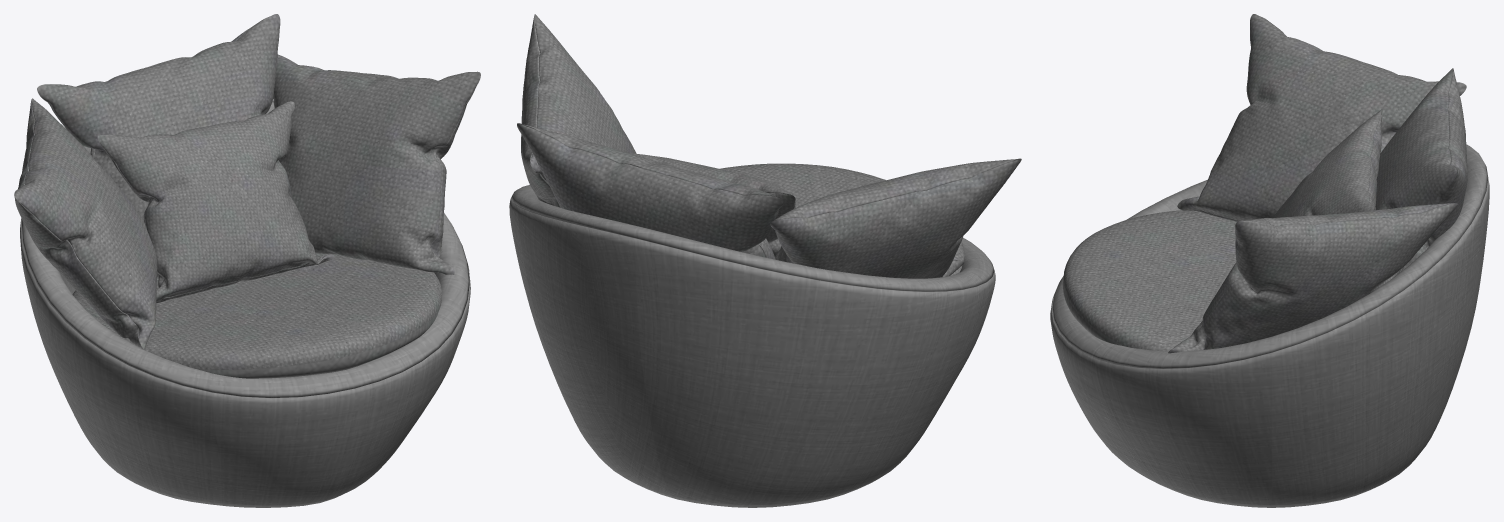
File: sofa3.glb
The picture shows the model from 3 angles, left to right: view 1: azimuth 30°, elevation 25°; view 2: azimuth 150°, elevation 25°; view 3: azimuth 270°, elevation 25°; orthographic projection. The views are drawn at different scales.
Parts seen in each view (by area): view 1: pillow1_sofa_0; view 2: pillow1_sofa_0; view 3: pillow1_sofa_0.
Part boxes in pixels (bbox=[...]): pillow1_sofa_0: bbox=[14, 14, 480, 507]; pillow1_sofa_0: bbox=[509, 14, 1021, 507]; pillow1_sofa_0: bbox=[1050, 14, 1489, 507].
Size of the model in its own units: 1.22 by 0.8887 by 1.01.
1 material, 1 textured.
